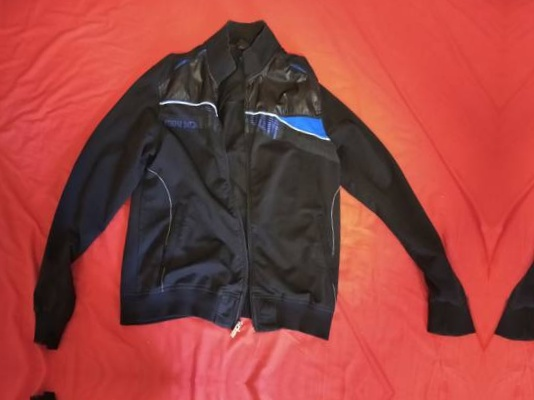Blazer: (19, 9, 494, 380), (493, 40, 534, 400), (0, 387, 469, 400)
